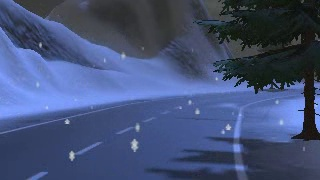Lane: (0, 89, 302, 179)
